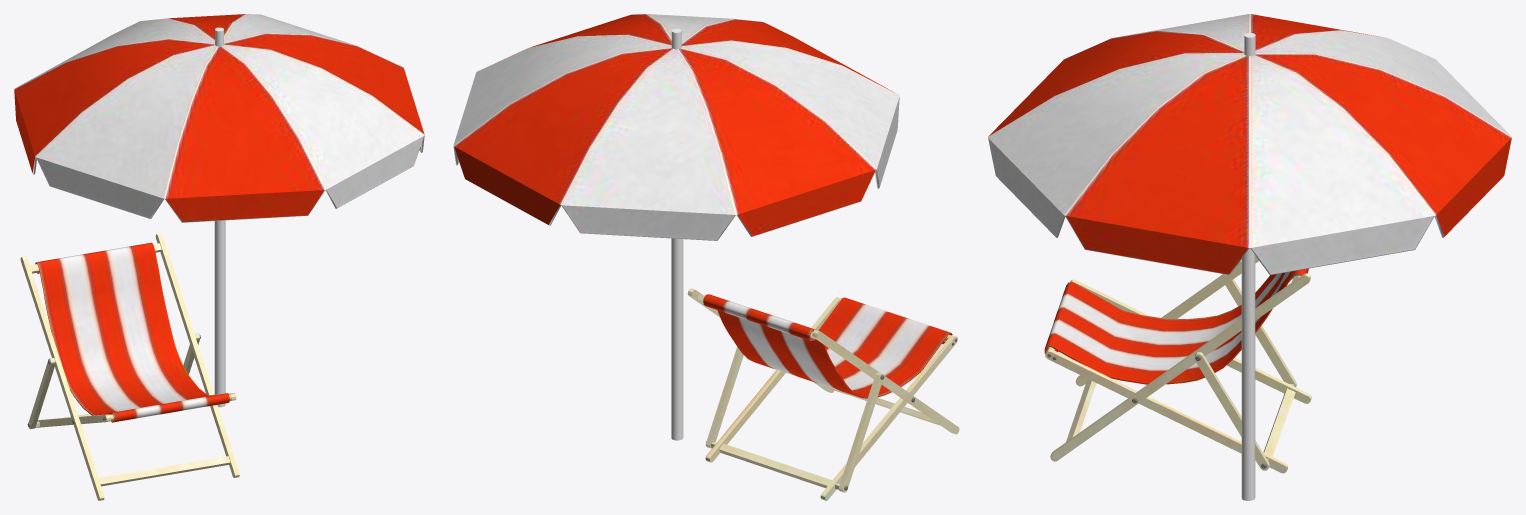
The model's file is furn_parasol.glb.
3 renders of one model, left to right at view 1: azimuth 30°, elevation 25°; view 2: azimuth 150°, elevation 25°; view 3: azimuth 270°, elevation 25°, orthographic. The views are drawn at different scales.
Parts seen in each view (by area): view 1: UmbrellaTop2, Fold2, Chair1, Umbrella_Poll1; view 2: UmbrellaTop2, Fold2, Chair1, Umbrella_Poll1; view 3: UmbrellaTop2, Fold2, Chair1, Umbrella_Poll1.
Part boxes in pixels (<box>): UmbrellaTop2: <box>14,14,424,222</box>; Fold2: <box>35,242,229,422</box>; Chair1: <box>20,233,239,500</box>; Umbrella_Poll1: <box>214,220,225,407</box>; UmbrellaTop2: <box>453,14,899,240</box>; Fold2: <box>703,294,952,398</box>; Chair1: <box>687,288,959,500</box>; Umbrella_Poll1: <box>671,238,683,440</box>; UmbrellaTop2: <box>988,14,1511,275</box>; Fold2: <box>1044,268,1308,384</box>; Chair1: <box>1045,256,1311,473</box>; Umbrella_Poll1: <box>1241,248,1255,500</box>.
Size of the model in its own units: 2.88 by 2.76 by 2.83.
Materials: 2 (1 with a texture image).
